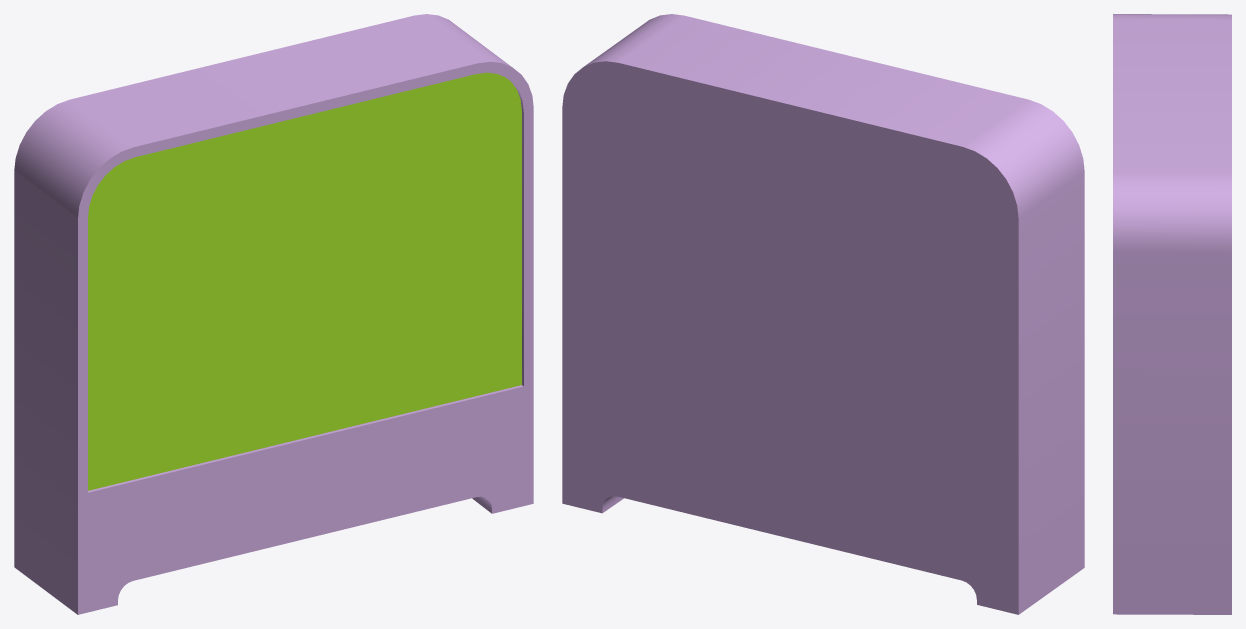
Rendered from m_vending.fbx.
3 renders of one model, left to right at view 1: azimuth 30°, elevation 25°; view 2: azimuth 150°, elevation 25°; view 3: azimuth 270°, elevation 25°, orthographic. The views are drawn at different scales.
Parts seen in each view (by area): view 1: vending_bebidas.001, Cylinder.004; view 2: Cylinder.004; view 3: Cylinder.004.
Boxes of the visible parts, x1=… form: vending_bebidas.001: x1=88, y1=72, x2=521, y2=490; Cylinder.004: x1=14, y1=14, x2=533, y2=614; Cylinder.004: x1=562, y1=14, x2=1084, y2=614; Cylinder.004: x1=1113, y1=14, x2=1231, y2=614.
Bounding box in the file's own units: 227 × 216 × 55.86.
